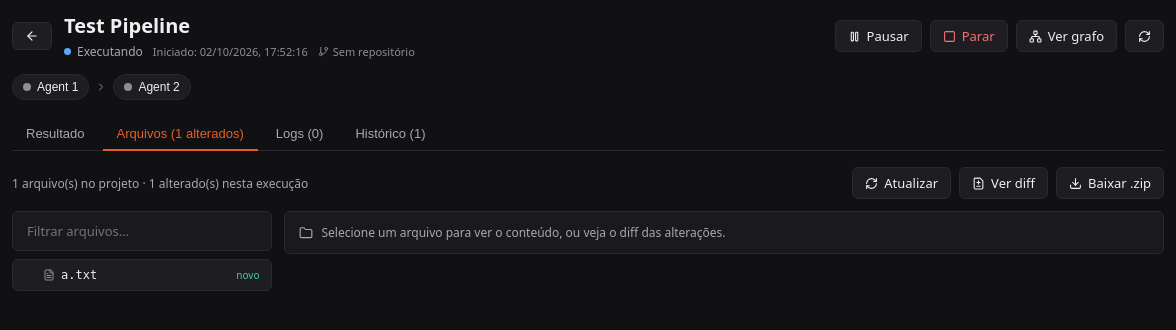
Test: PipelineMonitor › refreshes the project files when a node completes, keeping the open file
Click the button "a.txt novo".
click(142, 275)  # box [17, 264, 268, 286]
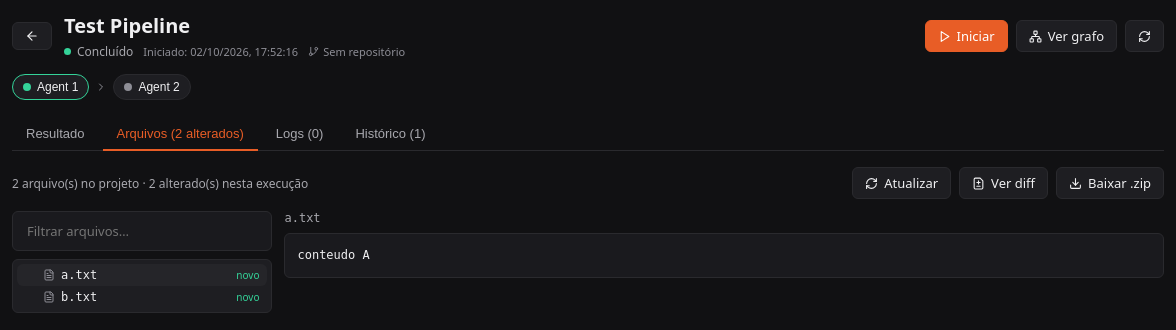
Check: the button "b.txt novo" is shown, box [17, 286, 268, 308]
Check: the text "conteudo A" is shown, box [284, 233, 1164, 278]
